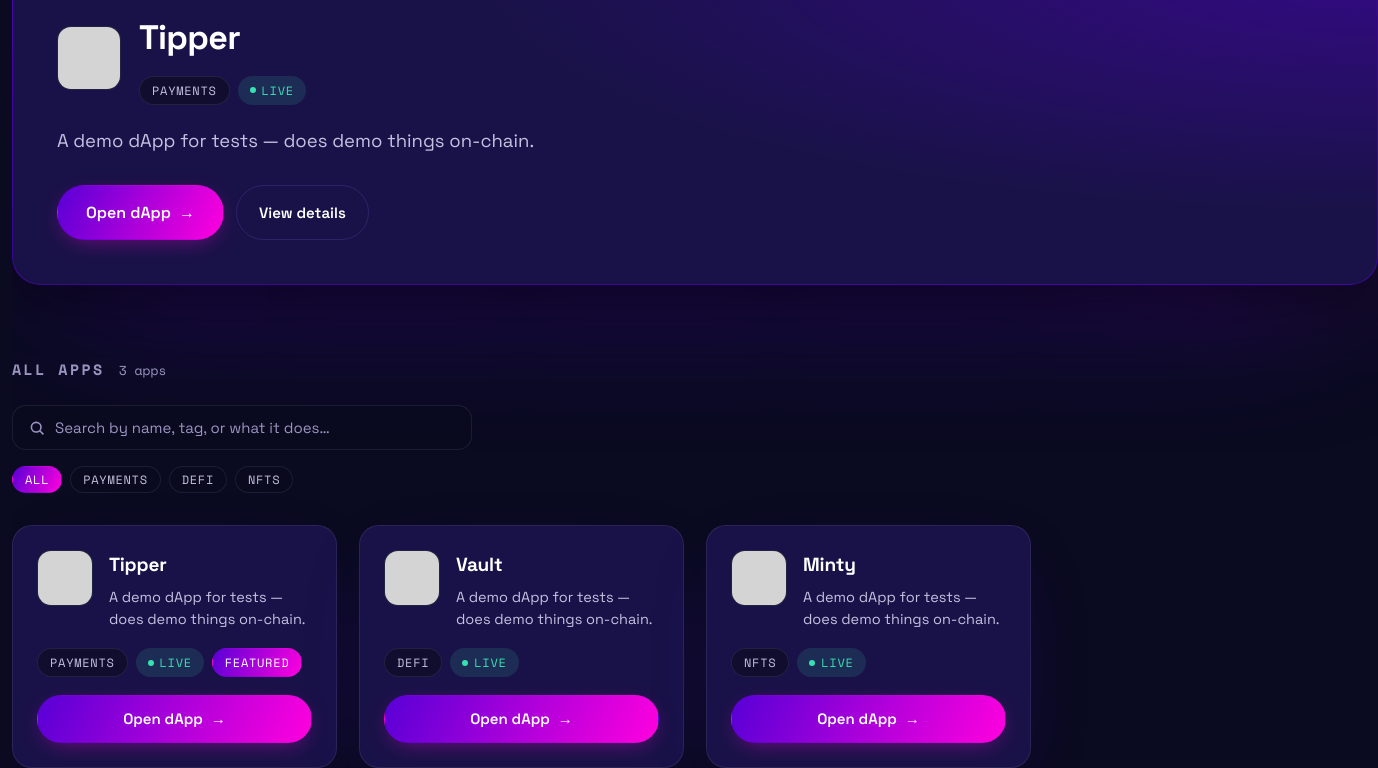
Test: <HomePage> › filters by search text and mirrors the filter into the URL
This screenshot has width=1378, height=768.
(page scrolled)
Type "minty" into the search field with test id "search-input". click: (255, 428)
box: [55,406,455,449]
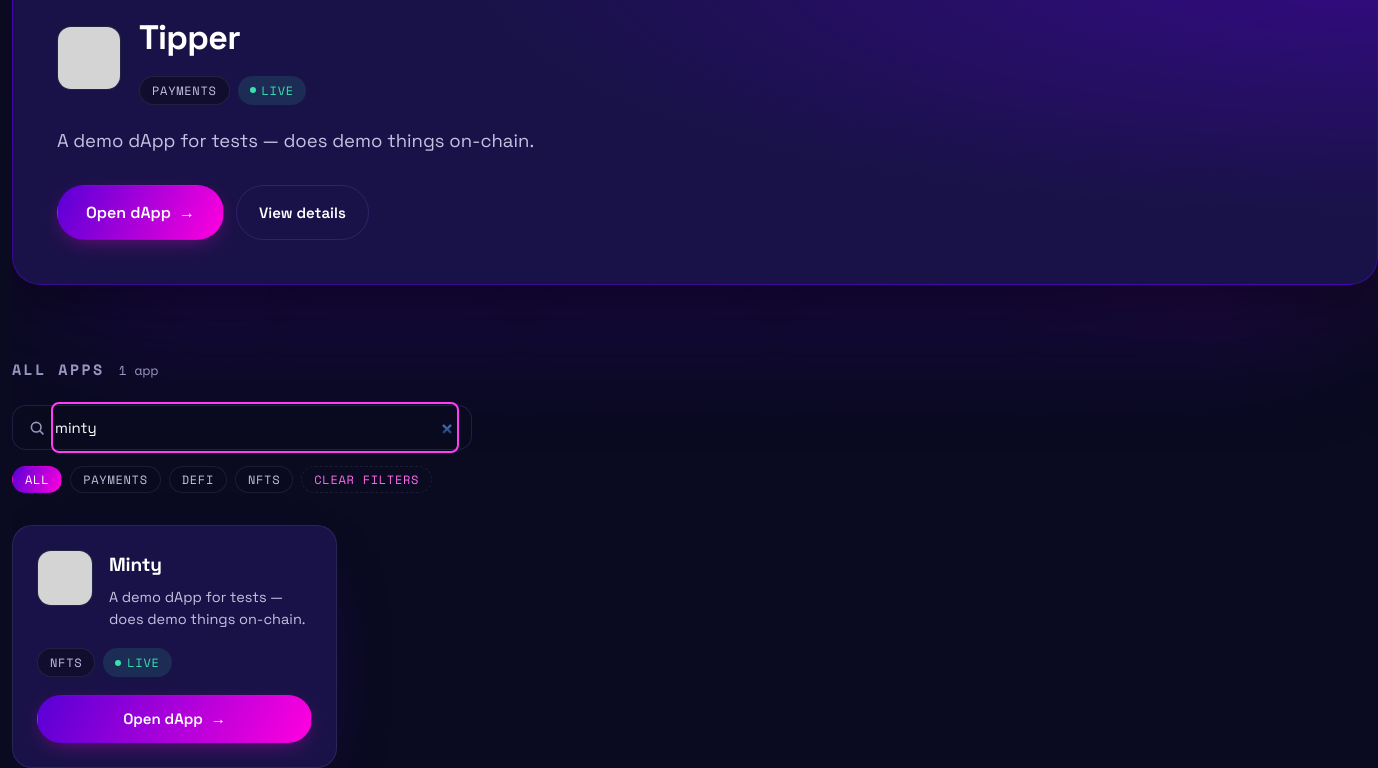
expect the text with test id "apps-count" reads "1 app": met, box [119,360,158,380]
